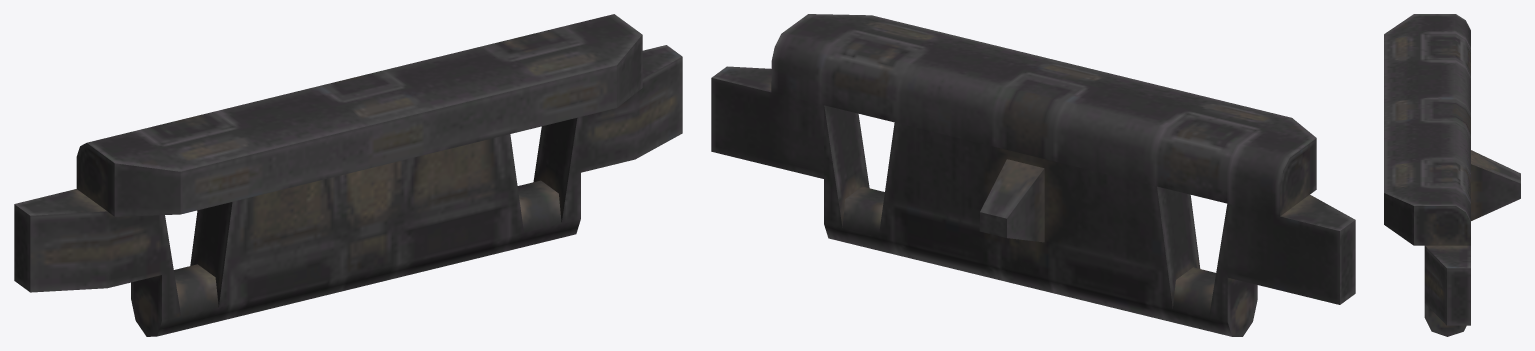
3 views of the same model, side by side, from view 1: azimuth 30°, elevation 25°; view 2: azimuth 150°, elevation 25°; view 3: azimuth 270°, elevation 25° (orthographic). The views are drawn at different scales.
Parts seen in each view (by area): view 1: set_0_group_0; view 2: set_0_group_0; view 3: set_0_group_0.
Part boxes in pixels (x1,y1,x2,y2): set_0_group_0: [14, 14, 682, 336]; set_0_group_0: [711, 14, 1355, 336]; set_0_group_0: [1384, 14, 1520, 336].
Bounding box in the file's own units: 0.52 × 0.1548 × 0.1269.
1 material, 1 textured.
